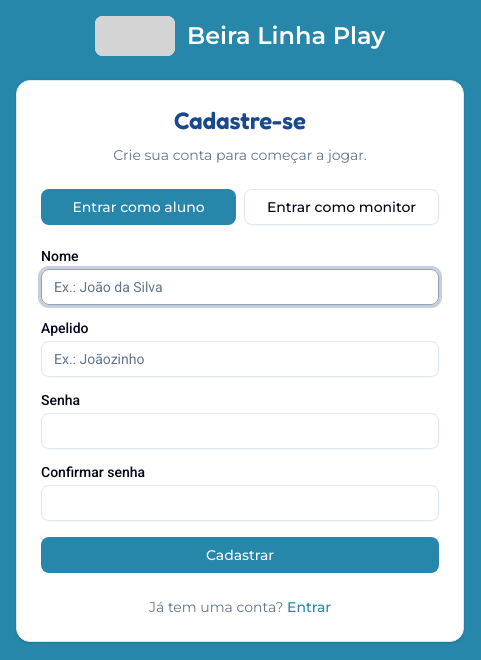
Test case: RegisterPage › restores nickname when entering as student
Click the button "Entrar como monitor": {"x": 342, "y": 207} left=244, top=189, right=439, bottom=225
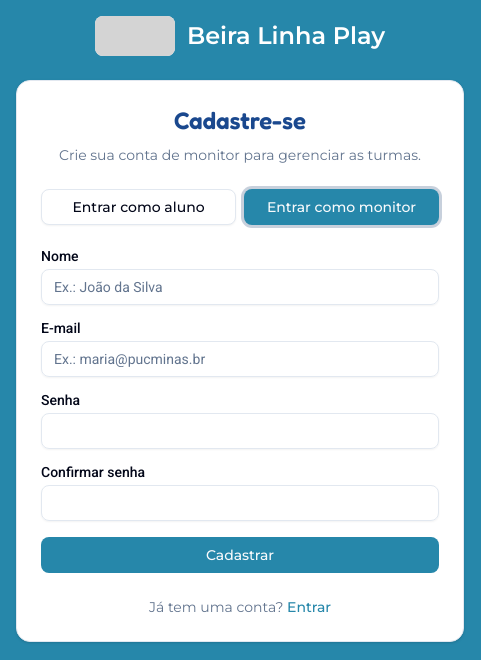
Click the button "Entrar como aluno": {"x": 138, "y": 207} left=41, top=189, right=236, bottom=225
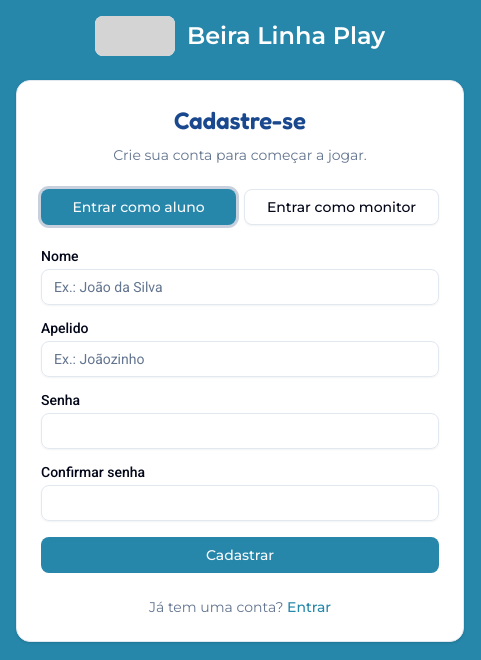
Expected: the field labelled "Apelido" is shown, left=41, top=341, right=439, bottom=377
Expected: the label labelled "E-mail" is gone
